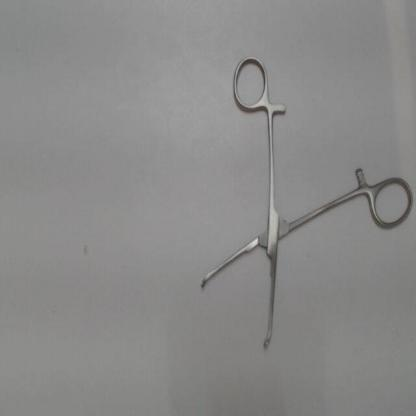Allis Tissue Forceps: (188, 47, 416, 366)
